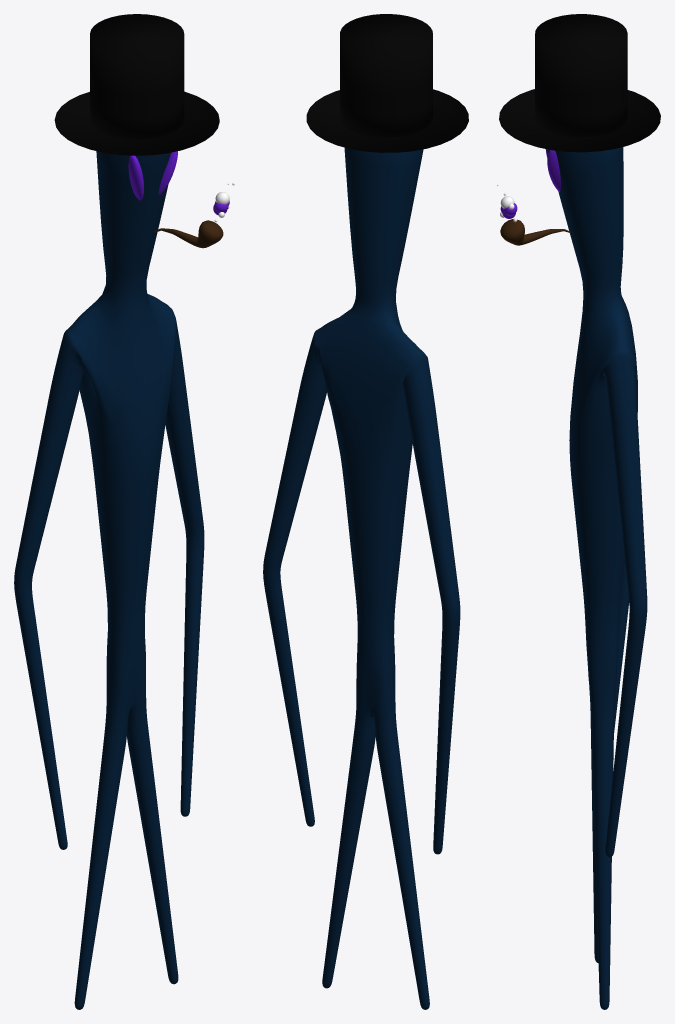
Rendered from Monster Pano.gltf.
3 views of the same model, side by side, from view 1: azimuth 30°, elevation 25°; view 2: azimuth 150°, elevation 25°; view 3: azimuth 270°, elevation 25° (orthographic).
Visible parts, largest first — view 1: Monster Pano; view 2: Monster Pano; view 3: Monster Pano.
Part boxes in pixels (x1,y1,x2,y2): Monster Pano: (14, 14, 234, 1009); Monster Pano: (263, 14, 468, 1009); Monster Pano: (497, 14, 660, 1009).
Size of the model in its own units: 1.66 by 7.99 by 1.25.
